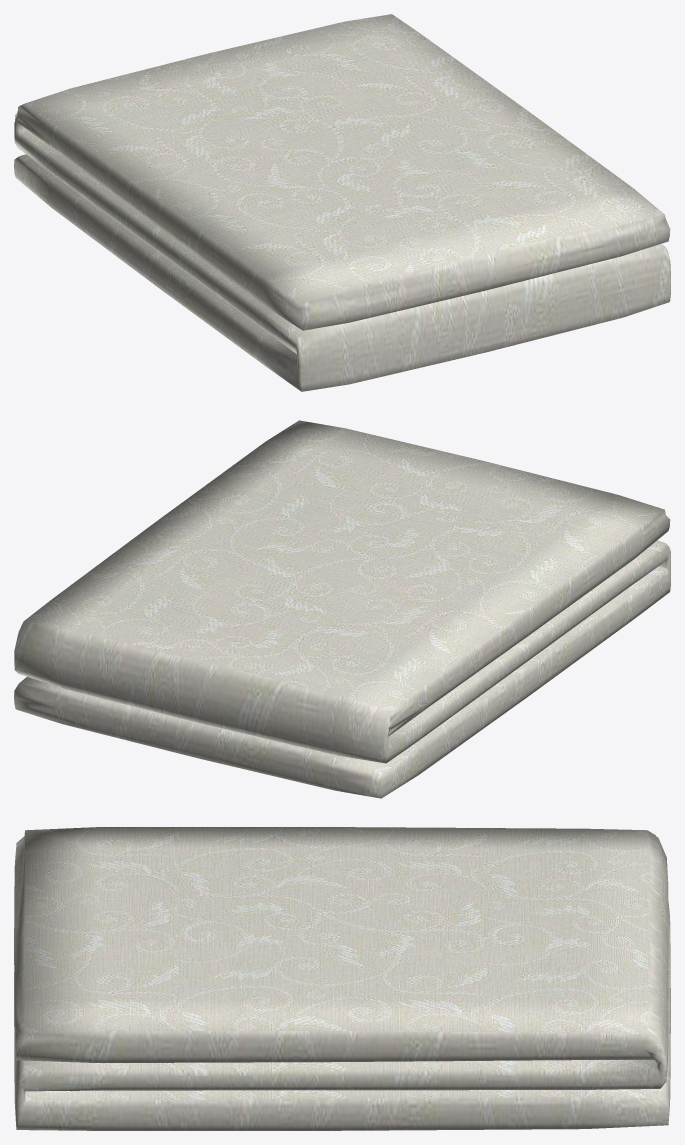
Rendered from quilt_fold.FBX.
3 views of the same model, one above another, from view 1: azimuth 30°, elevation 25°; view 2: azimuth 150°, elevation 25°; view 3: azimuth 270°, elevation 25° (orthographic). The views are drawn at different scales.
Parts seen in each view (by area): view 1: quilt_fold; view 2: quilt_fold; view 3: quilt_fold.
Boxes of the visible parts, x1,y1,x2,y2 form: quilt_fold: (14,14,670,391); quilt_fold: (14,420,670,798); quilt_fold: (14,827,670,1130).
Bounding box in the file's own units: 580 × 147 × 780.
Materials: 1 (1 with a texture image).
